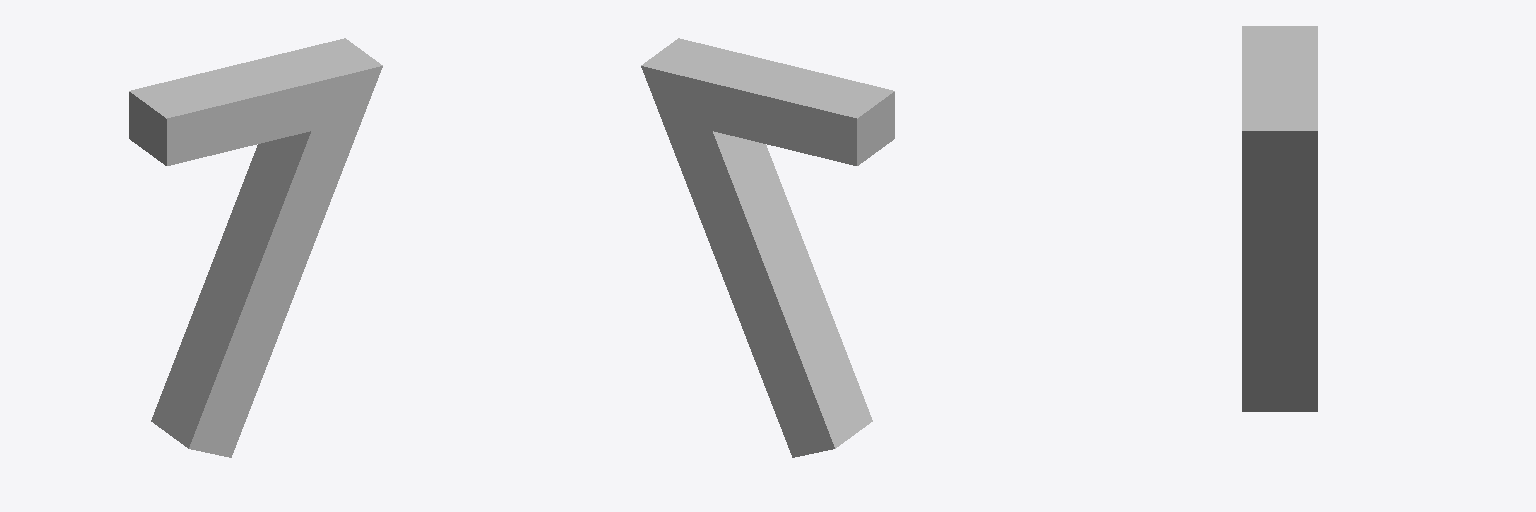
3 views of the same model, side by side, from view 1: azimuth 30°, elevation 25°; view 2: azimuth 150°, elevation 25°; view 3: azimuth 270°, elevation 25° (orthographic).
Visible parts, largest first — view 1: テキスト.007; view 2: テキスト.007; view 3: テキスト.007.
Part boxes in pixels (x1,y1,x2,y2): テキスト.007: (129, 38, 382, 457); テキスト.007: (641, 38, 894, 457); テキスト.007: (1242, 26, 1317, 411).
Bounding box in the file's own units: 1.32 × 2.07 × 0.4.